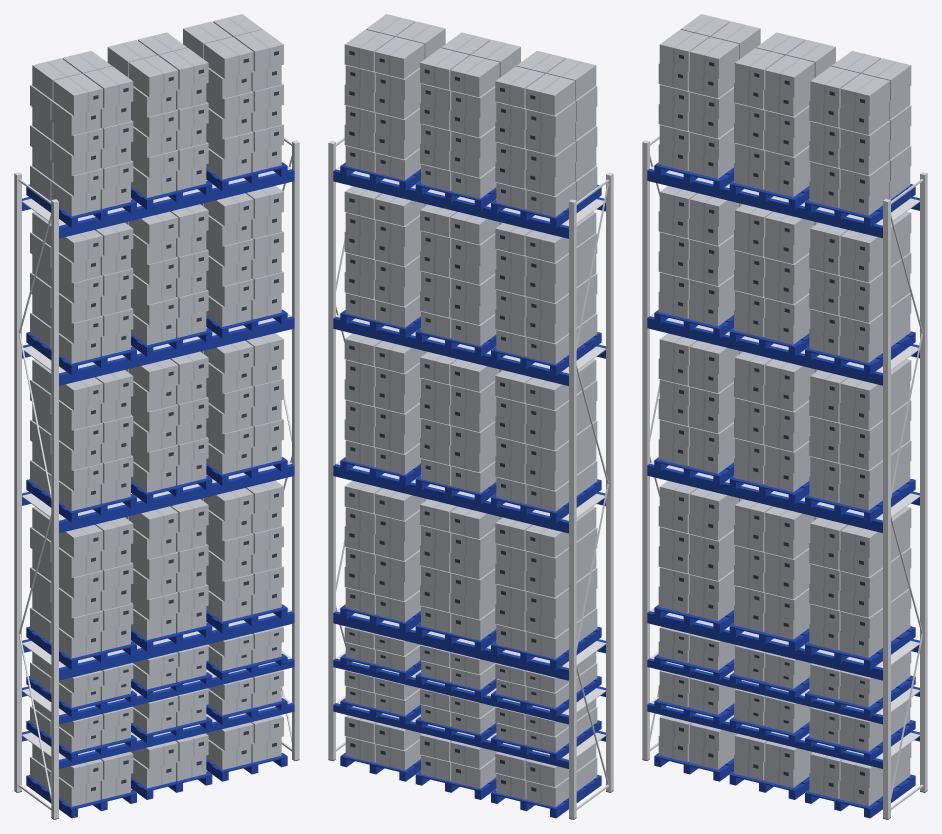
Rendered from SM_MPR_CADRack_F7_W144_Standard_LOD1.fbx.
3 renders of one model, left to right at view 1: azimuth 30°, elevation 25°; view 2: azimuth 150°, elevation 25°; view 3: azimuth 330°, elevation 25°, orthographic.
Visible parts, largest first — view 1: SM_MPR_CADRack_F7_W144_Standard_LOD1; view 2: SM_MPR_CADRack_F7_W144_Standard_LOD1; view 3: SM_MPR_CADRack_F7_W144_Standard_LOD1.
Part boxes in pixels (bbox=[...]): SM_MPR_CADRack_F7_W144_Standard_LOD1: bbox=[14, 14, 299, 819]; SM_MPR_CADRack_F7_W144_Standard_LOD1: bbox=[328, 14, 613, 819]; SM_MPR_CADRack_F7_W144_Standard_LOD1: bbox=[642, 14, 927, 819].
Bounding box in the file's own units: 381 × 122 × 1068.
